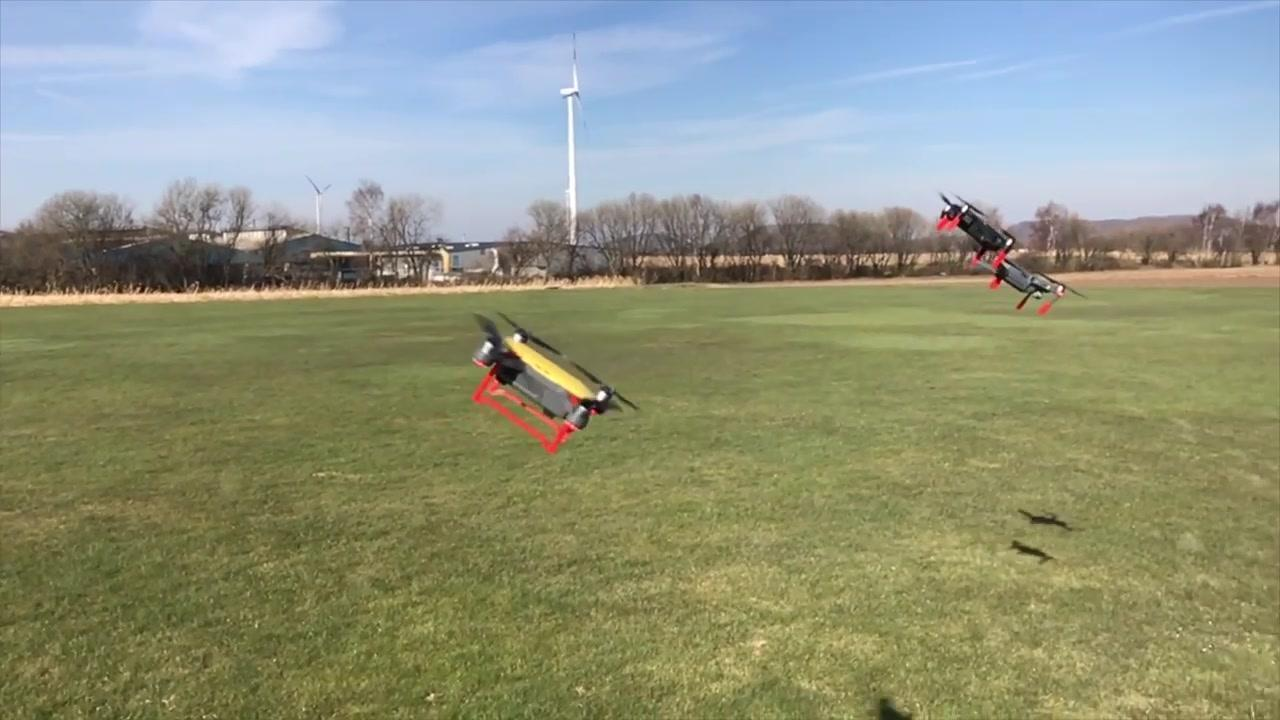UAV: (472, 312, 641, 457), (973, 251, 1089, 317), (936, 192, 1018, 270)
